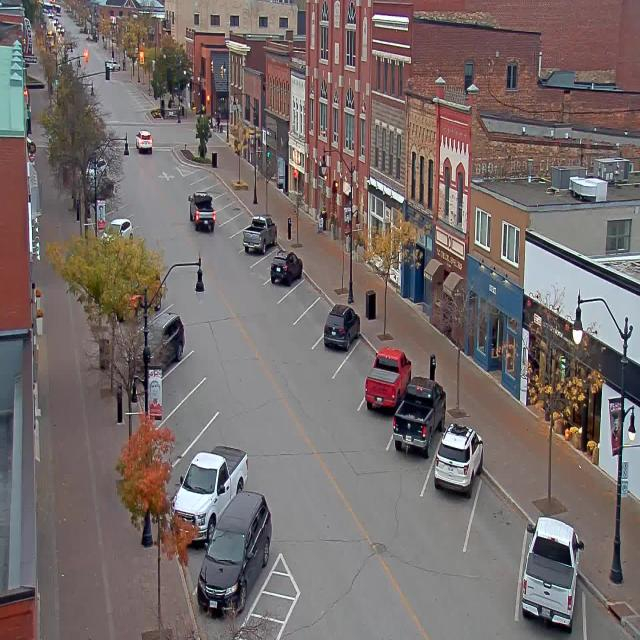available: (466, 475, 532, 590), (186, 398, 250, 466), (579, 579, 635, 640), (179, 371, 228, 431), (339, 327, 383, 383), (162, 339, 205, 388), (306, 293, 338, 337), (289, 273, 317, 314), (254, 236, 283, 268), (233, 210, 251, 236), (224, 197, 240, 221), (218, 189, 231, 210), (210, 178, 222, 198), (202, 170, 215, 188), (196, 161, 207, 179)
occupied: (196, 489, 272, 617), (172, 444, 248, 546), (522, 516, 584, 632), (392, 375, 446, 457), (434, 421, 484, 498), (364, 346, 412, 412), (323, 303, 360, 351), (242, 214, 277, 254), (270, 248, 303, 286)
